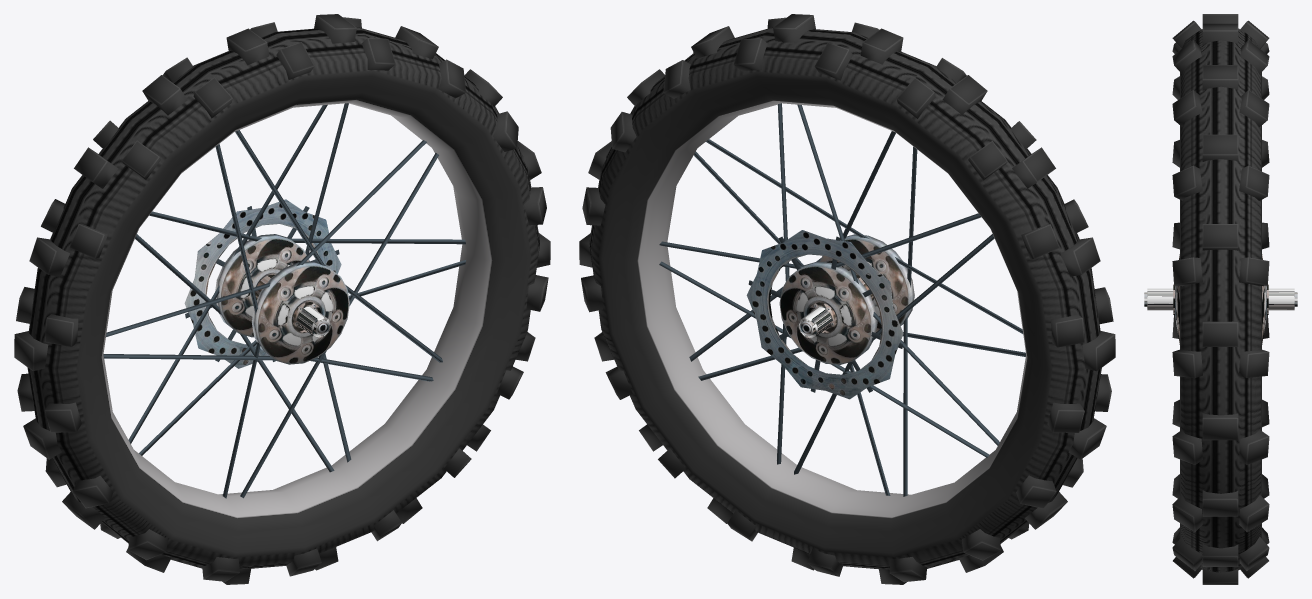
File: Tyre.fbx
3 views of the same model, side by side, from view 1: azimuth 30°, elevation 25°; view 2: azimuth 150°, elevation 25°; view 3: azimuth 270°, elevation 25° (orthographic). The views are drawn at different scales.
Visible parts, largest first — view 1: Tyre; view 2: Tyre; view 3: Tyre.
Boxes of the visible parts, left/top/right/bottom form: Tyre: left=14, top=14, right=550, bottom=584; Tyre: left=579, top=14, right=1115, bottom=584; Tyre: left=1144, top=14, right=1297, bottom=584.
Size of the model in its own units: 8.94 by 8.92 by 2.41.
